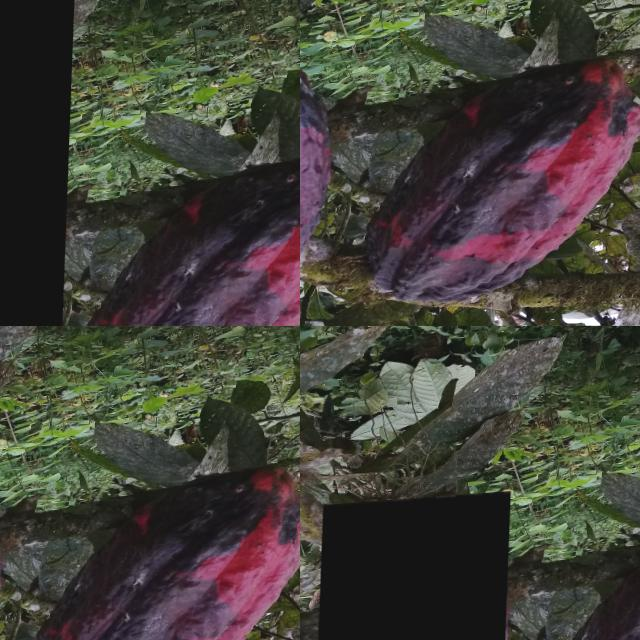Fitoftora: (317, 495, 512, 640), (0, 0, 75, 326)
